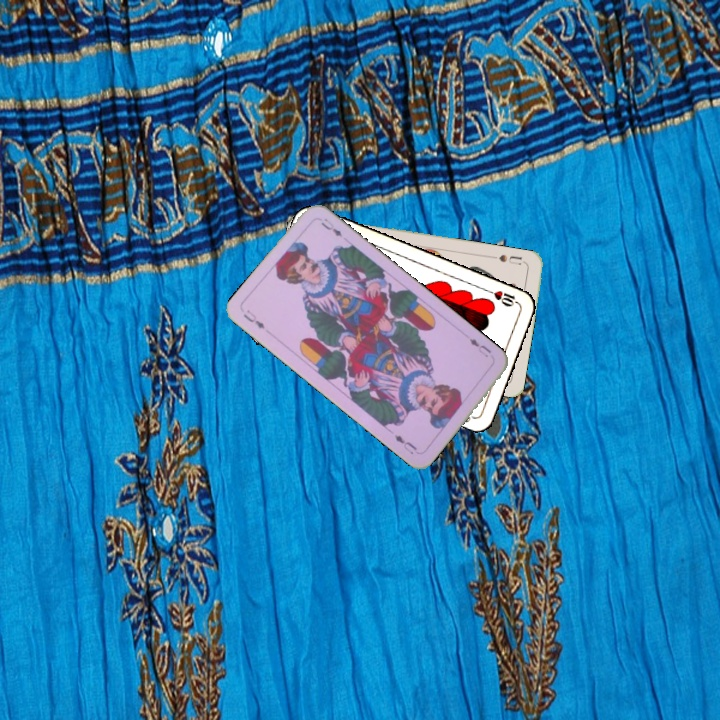EU: (465, 334, 494, 360), (239, 306, 268, 332)
H10: (483, 286, 522, 309)
SU: (488, 250, 528, 268)
